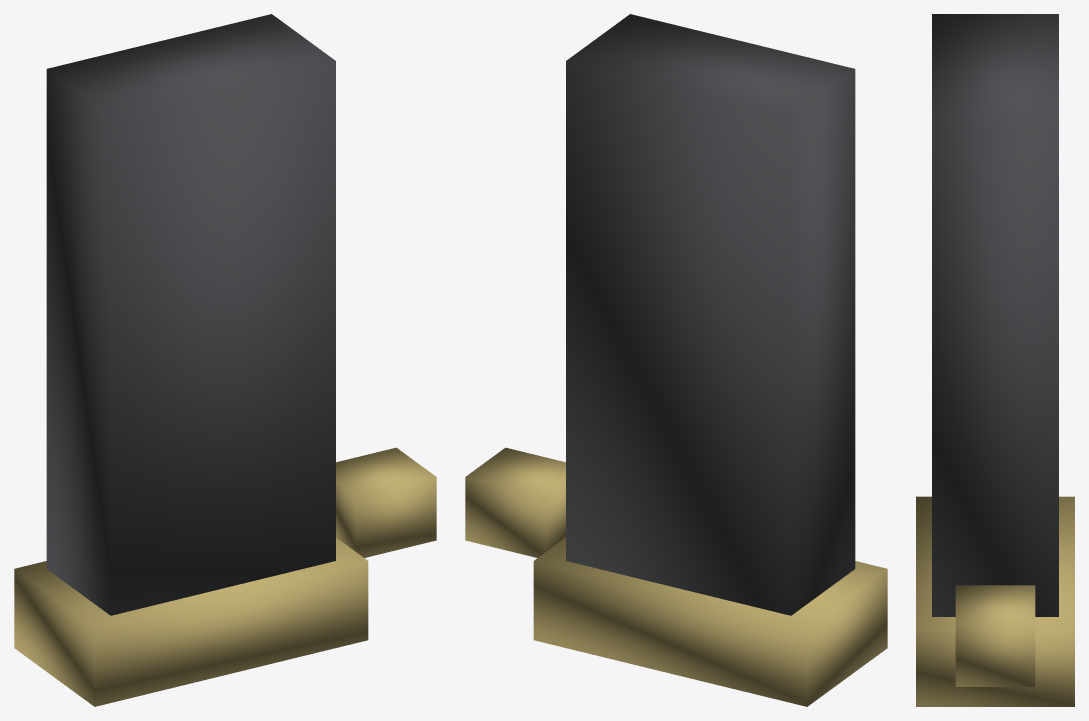
Rendered from dock_bumper_11.glb.
3 renders of one model, left to right at view 1: azimuth 30°, elevation 25°; view 2: azimuth 150°, elevation 25°; view 3: azimuth 270°, elevation 25°, orthographic.
Visible parts, largest first — view 1: world; view 2: world; view 3: world.
Boxes of the visible parts, x1,y1,x2,y2 form: world: (14, 14, 436, 706); world: (465, 14, 887, 706); world: (916, 14, 1074, 706).
Bounding box in the file's own units: 0.468 × 0.7154 × 0.18.
